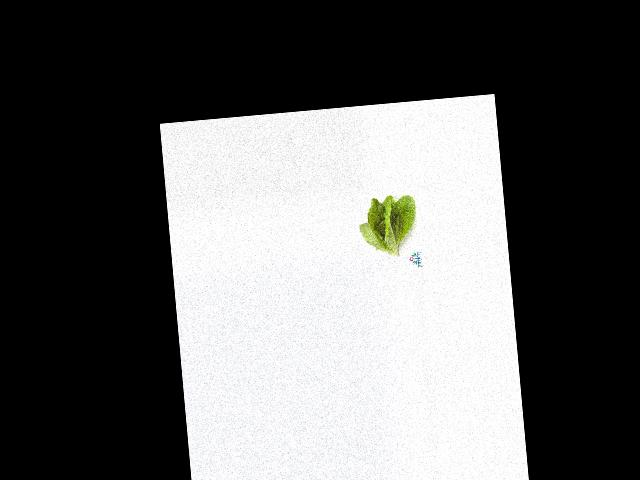lettuce: (355, 191, 418, 259)
